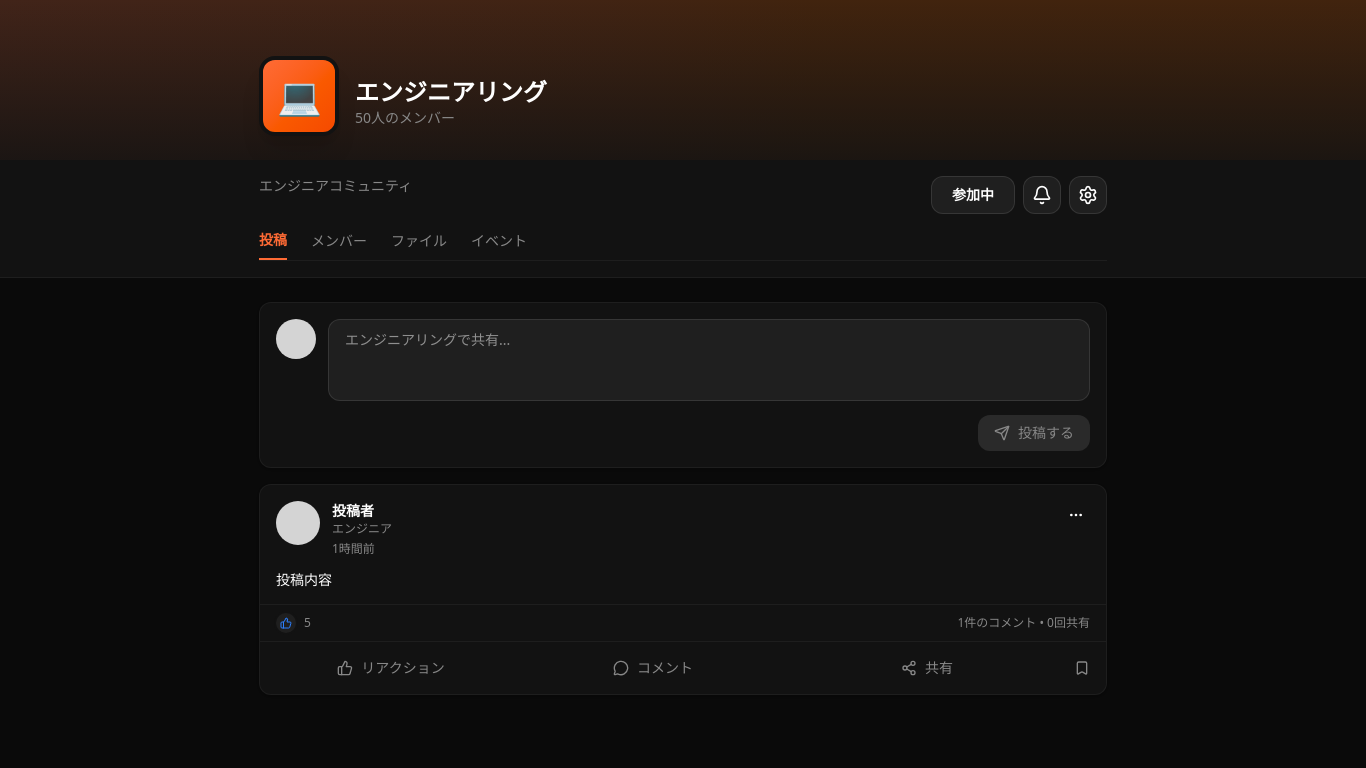
Test case: Comments / DisplayMetadata › should display author name, avatar, timestamp, and content for comments
Note: Expand comments
Click the button "コメント" at coordinates (653, 668), box [518,650,788,686]
(page scrolled)
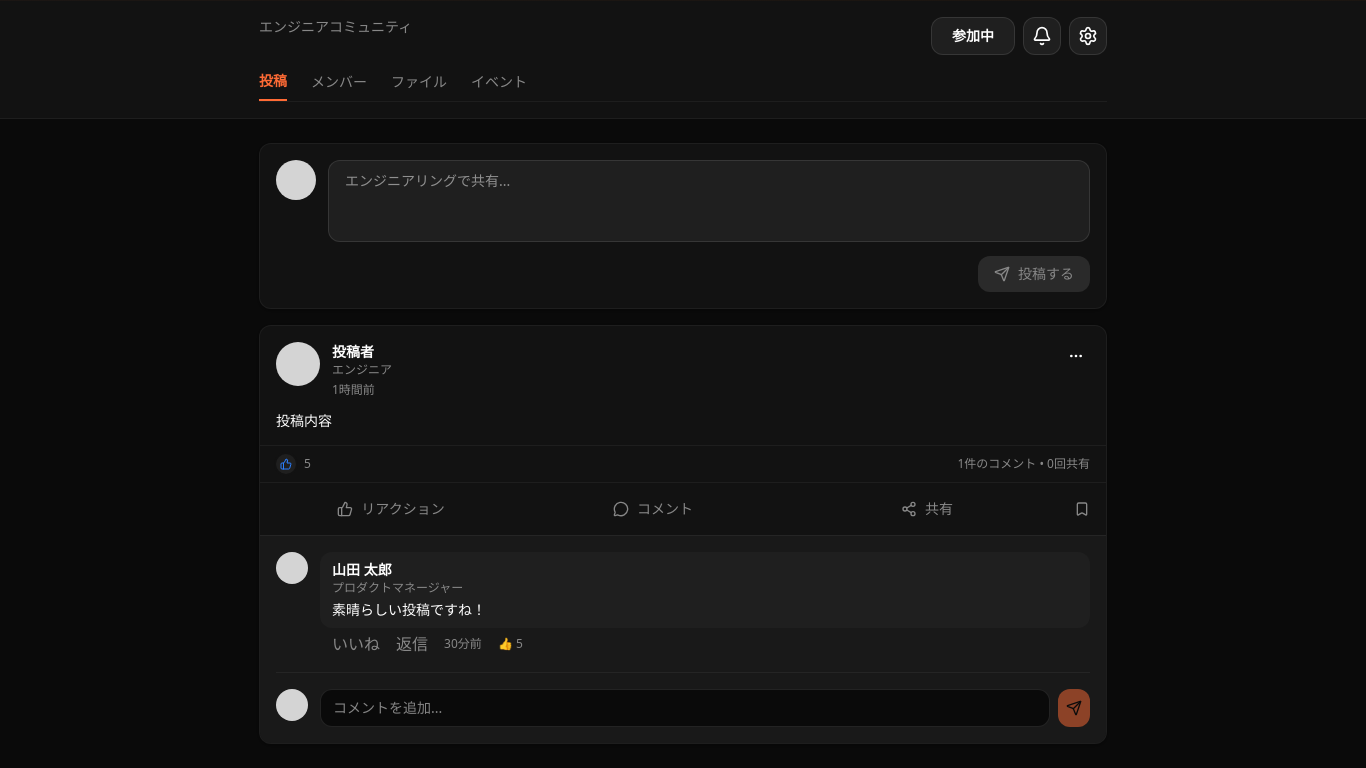
Check: the heading "山田 太郎" is shown, box [332,560,392,579]
Check: the text "30分前" is shown, box [444,636,482,652]
Check: the text "素晴らしい投稿ですね！" is shown, box [332,600,486,619]
